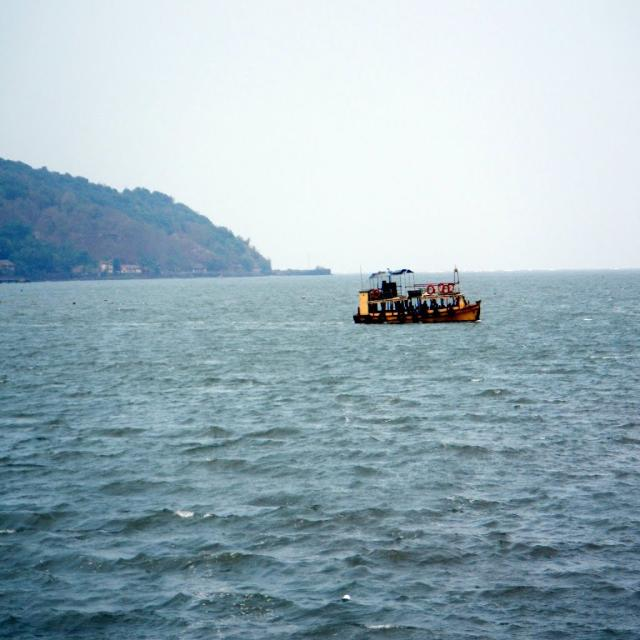fishing boat: (352, 264, 492, 334)
